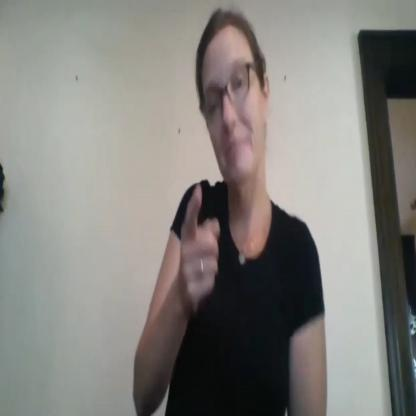HowAreYou: (175, 194, 226, 310)
